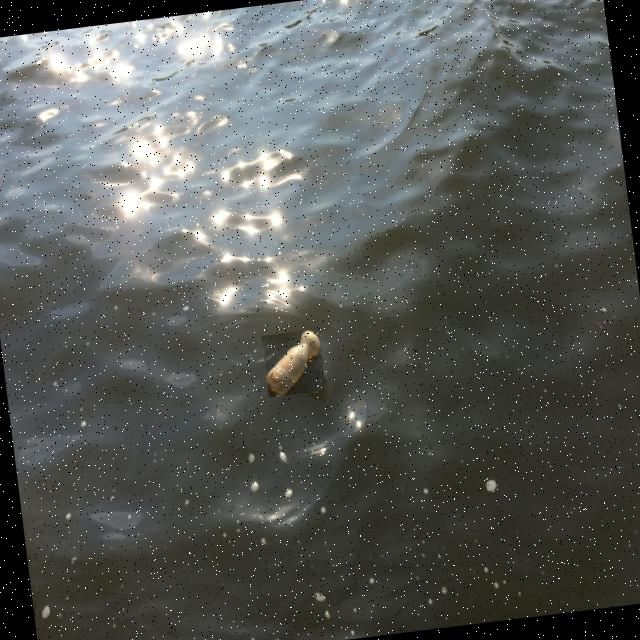Clear plastic bottle: (267, 329, 320, 396)
